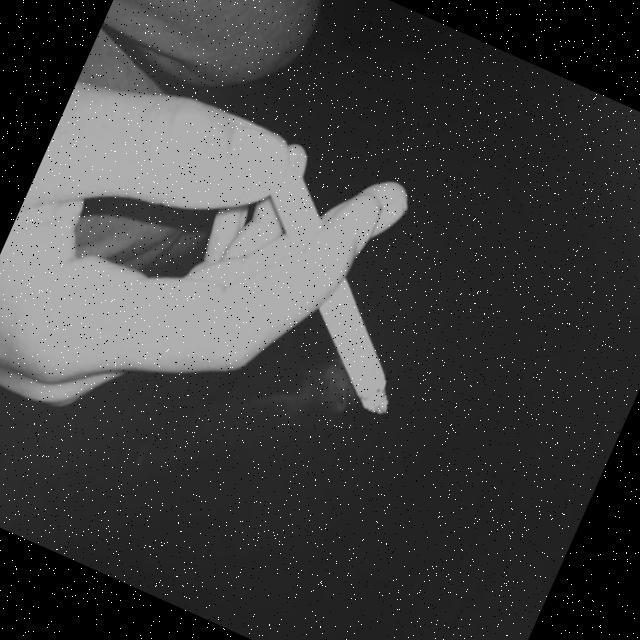cigarette: (289, 290, 435, 426)
